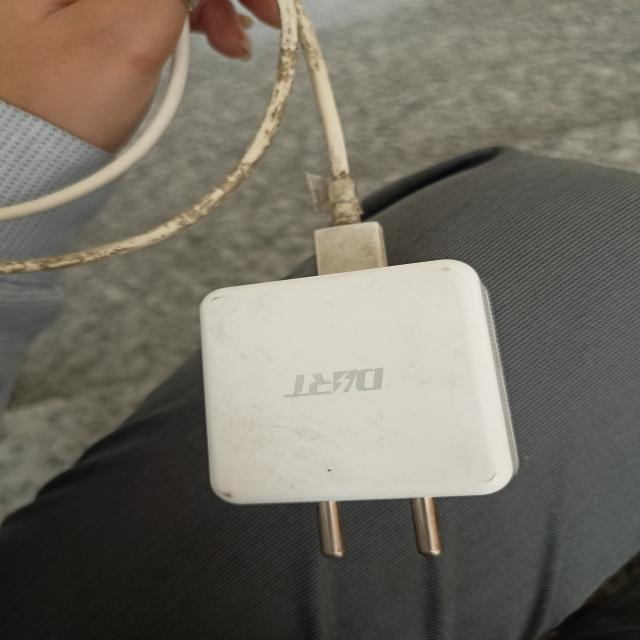plastic_box: (177, 251, 549, 531)
